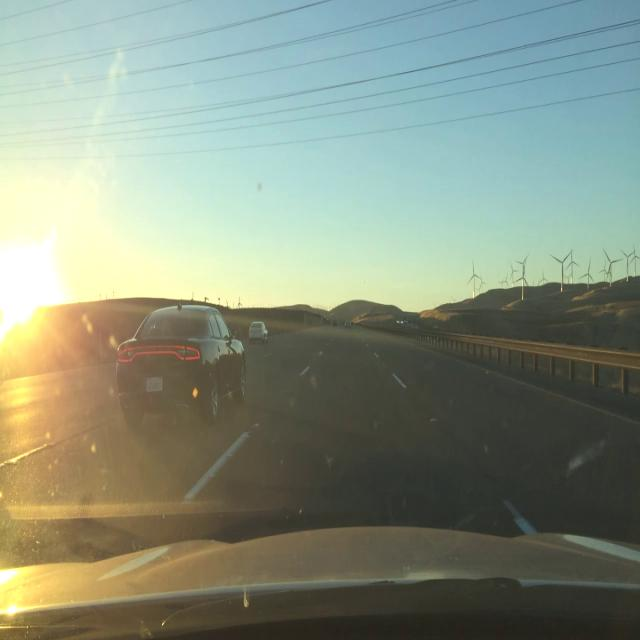Vehicle: (106, 309, 247, 439), (248, 312, 271, 348)
